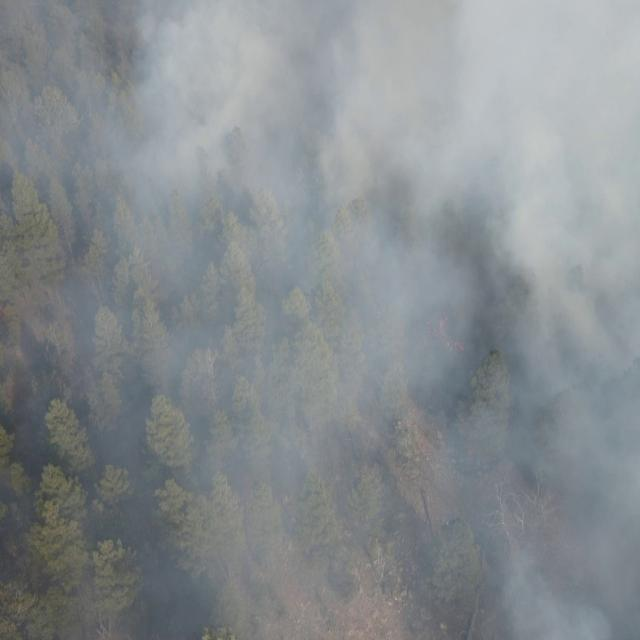fire: (429, 315, 466, 353)
smoke: (0, 0, 640, 640)
